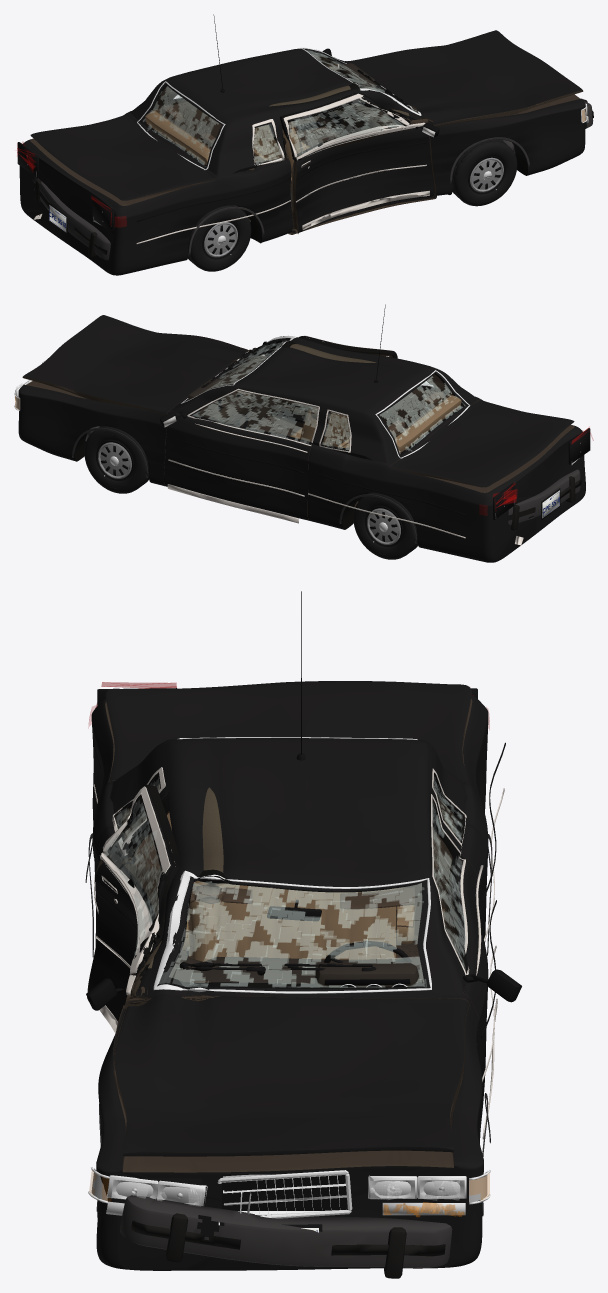
File: coupe84_side_R_d1_lod1.glb
The picture shows the model from 3 angles, top to bottom: view 1: azimuth 30°, elevation 25°; view 2: azimuth 150°, elevation 25°; view 3: azimuth 270°, elevation 25°; orthographic projection. The views are drawn at different scales.
Visible parts, largest first — view 1: Body, Hood, Door_FR, Trunk, Interior, Glass, Wheel_FR_mesh, Trim_FR, Wheel_RR_mesh, Glass_FR, Trim, Bumper_R (+2 smaller); view 2: Body, Hood, Door_FL, Trunk, Interior, Glass, Wheel_FL_mesh, Wheel_RL_mesh, Glass_FL, Trim_FL, Trim, Ends (+4 smaller); view 3: Body, Hood, Trunk, Interior, Glass, Bumper_F, Ends, Door_FR, Door_FL, Trim_FR, Trim, Glass_FR (+3 smaller).
Part boxes in pixels (bbox=[...]): Body: bbox=[19, 48, 585, 275]; Hood: bbox=[347, 30, 583, 126]; Door_FR: bbox=[280, 92, 434, 233]; Trunk: bbox=[30, 114, 215, 200]; Interior: bbox=[145, 63, 398, 189]; Glass: bbox=[137, 47, 421, 169]; Wheel_FR_mesh: bbox=[452, 139, 517, 206]; Trim_FR: bbox=[283, 93, 439, 229]; Wheel_RR_mesh: bbox=[188, 205, 251, 271]; Glass_FR: bbox=[282, 93, 406, 161]; Trim: bbox=[136, 14, 530, 256]; Bumper_R: bbox=[31, 176, 110, 260]; Body: bbox=[18, 336, 585, 562]; Hood: bbox=[22, 315, 250, 414]; Door_FL: bbox=[164, 388, 320, 520]; Trunk: bbox=[390, 399, 574, 487]; Interior: bbox=[188, 356, 461, 452]; Glass: bbox=[181, 335, 470, 458]; Wheel_FL_mesh: bbox=[84, 426, 149, 493]; Wheel_RL_mesh: bbox=[353, 492, 418, 559]; Glass_FL: bbox=[190, 388, 319, 446]; Trim_FL: bbox=[160, 388, 319, 523]; Trim: bbox=[72, 304, 465, 543]; Ends: bbox=[14, 360, 590, 520]; Body: bbox=[91, 695, 488, 1270]; Hood: bbox=[114, 994, 469, 1156]; Trunk: bbox=[105, 681, 471, 783]; Interior: bbox=[158, 785, 423, 987]; Glass: bbox=[113, 737, 466, 993]; Bumper_F: bbox=[120, 1195, 452, 1278]; Ends: bbox=[88, 688, 490, 1232]; Door_FR: bbox=[87, 784, 180, 1021]; Door_FL: bbox=[430, 793, 488, 1127]; Trim_FR: bbox=[86, 786, 175, 1033]; Trim: bbox=[85, 591, 505, 1216]; Glass_FR: bbox=[100, 800, 176, 975].
Size of the model in its own units: 5.18 by 2.1 by 1.95.
Materials: 34 (5 with a texture image).
